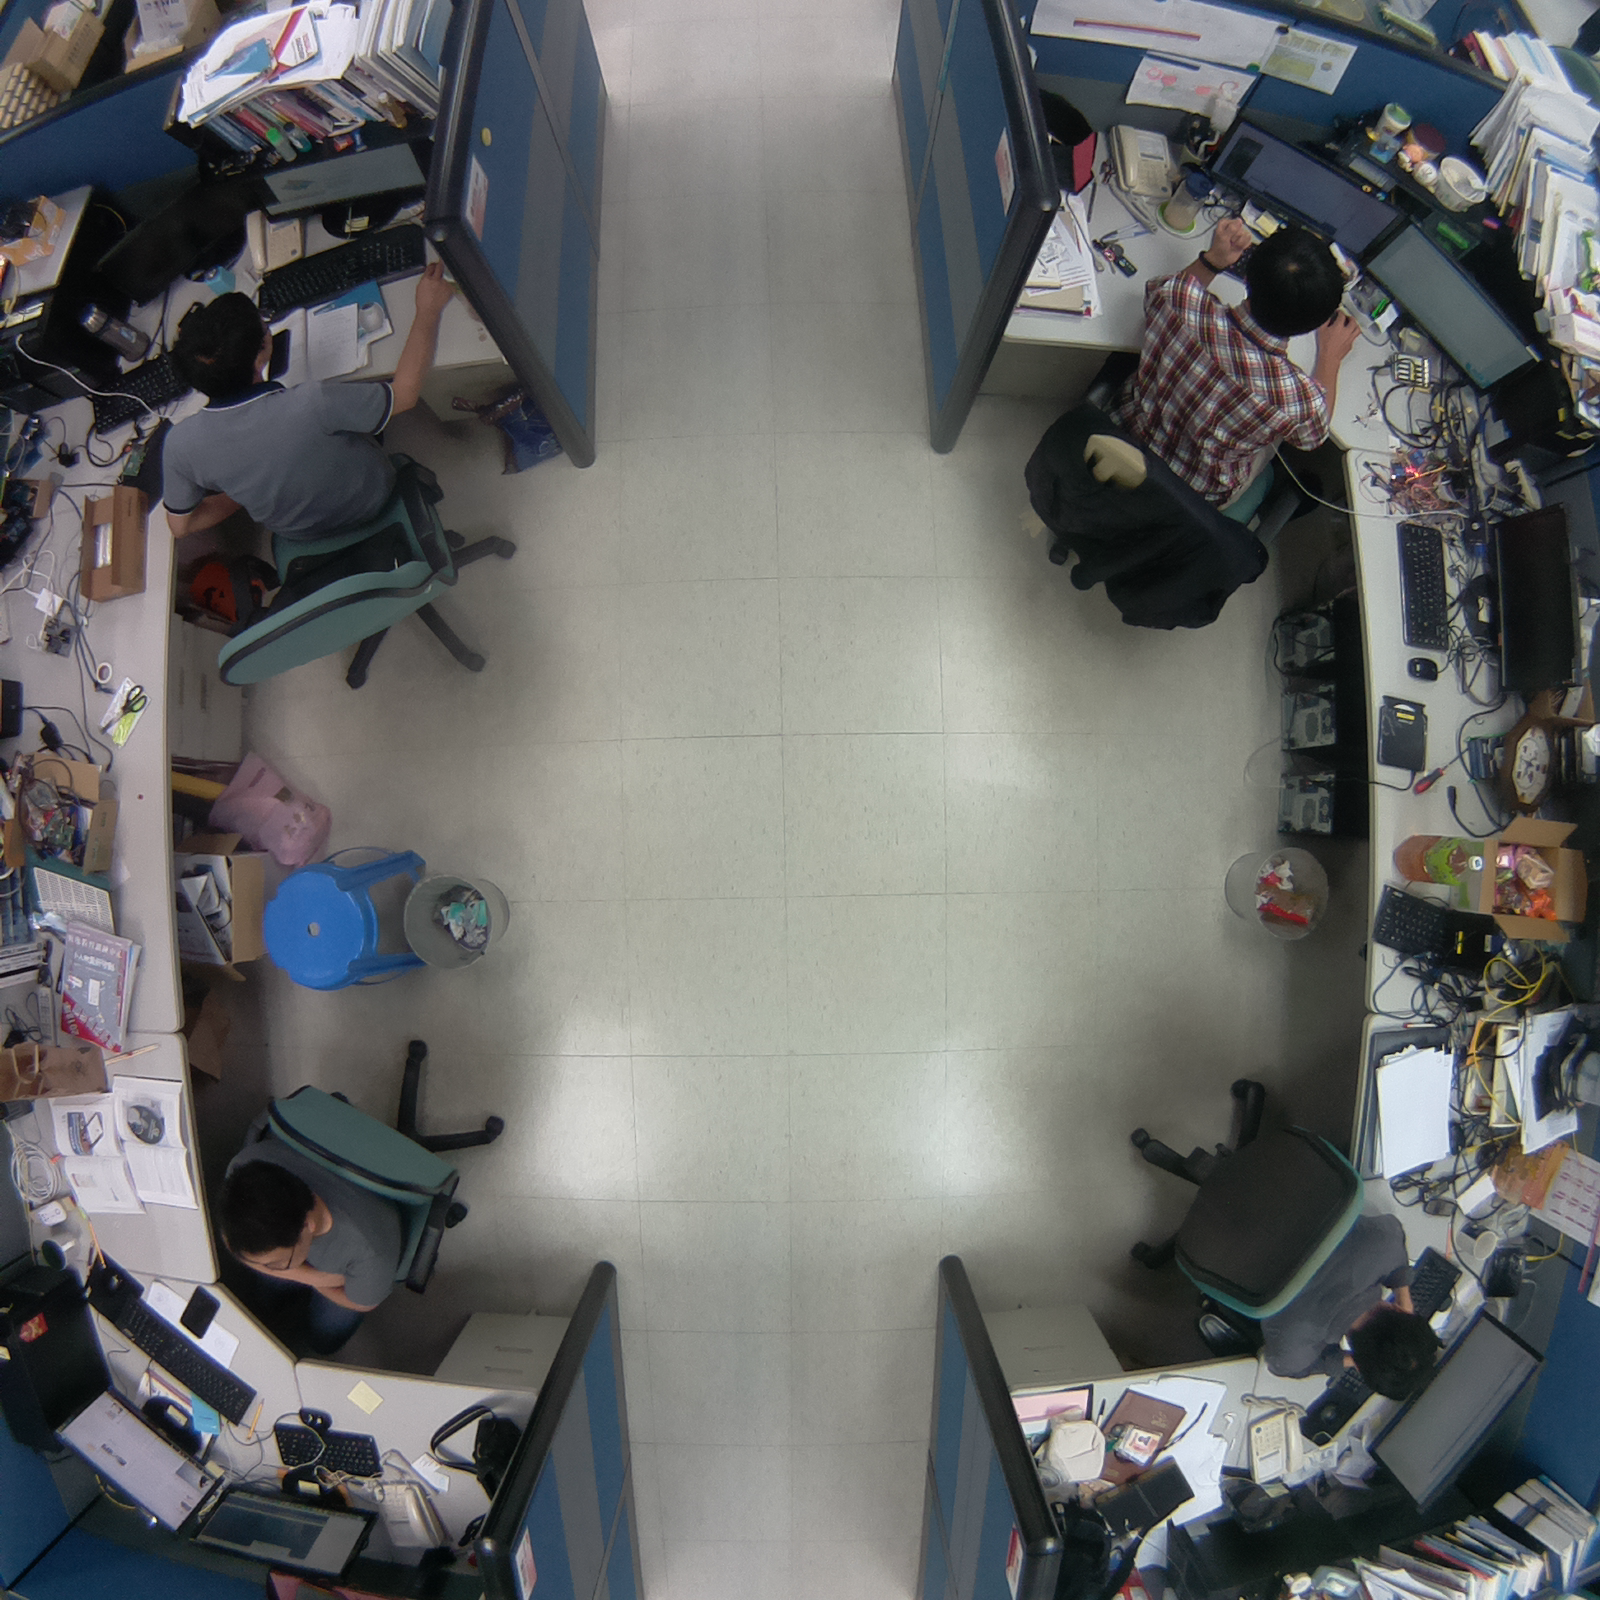head: (197, 1155, 337, 1278), (1237, 224, 1349, 338), (164, 292, 285, 388), (1339, 1305, 1447, 1405)
sitting: (139, 284, 532, 711), (1001, 220, 1365, 650), (1104, 1052, 1459, 1412), (185, 1004, 517, 1351)
